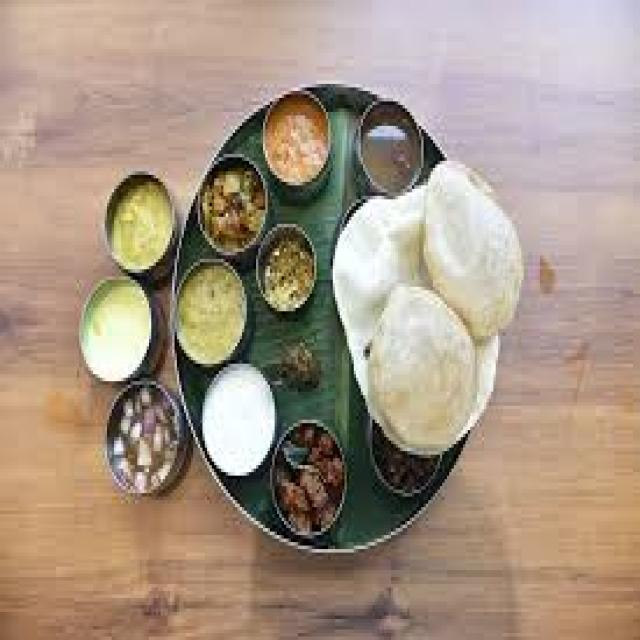curd: (194, 365, 283, 474), (74, 284, 160, 384)
papad: (417, 173, 525, 334)
pickle: (270, 424, 352, 538)
raita: (192, 361, 284, 473), (76, 281, 162, 384)
sambar-rasam: (258, 85, 338, 193), (352, 116, 423, 193)
